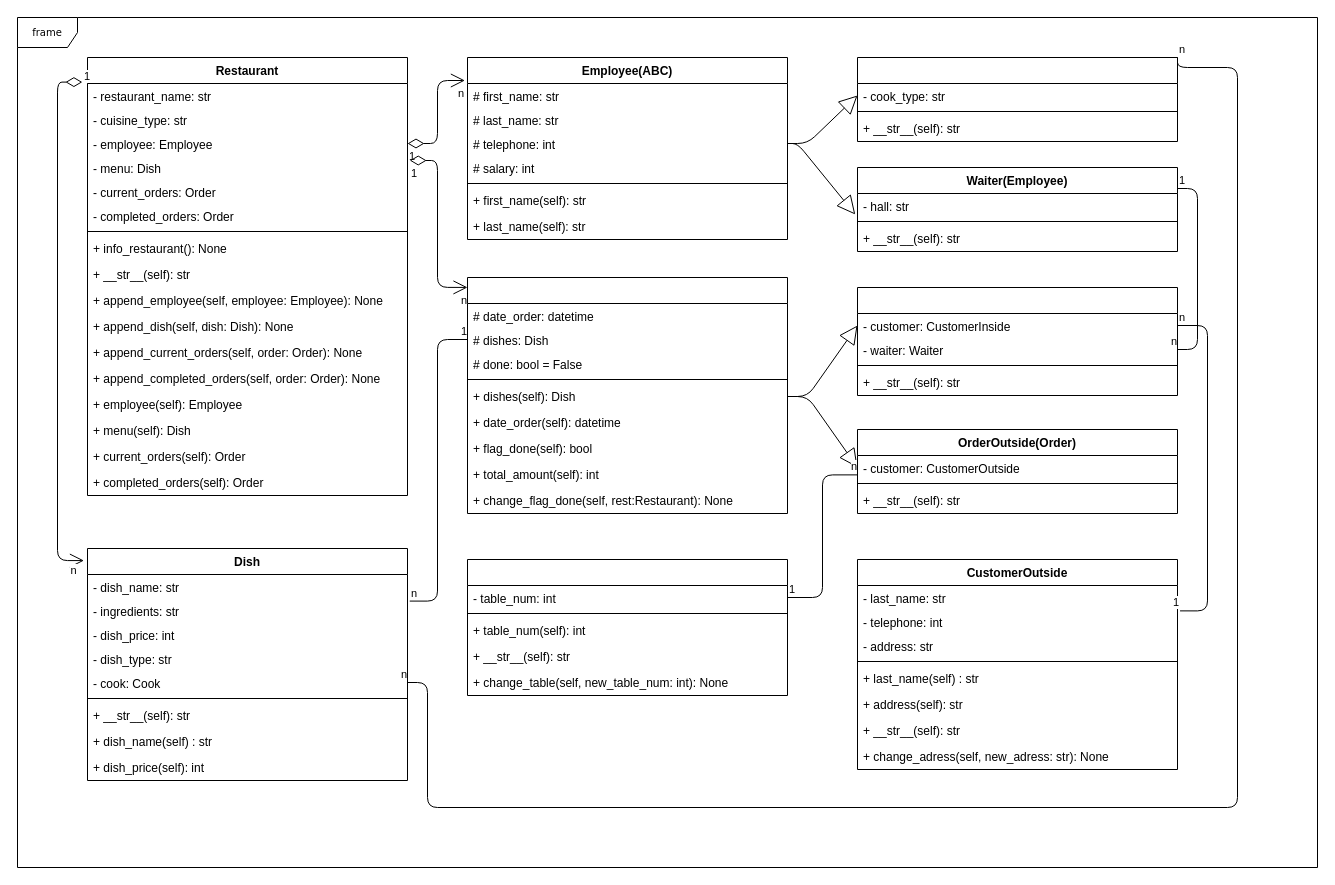
This 1335x885 diagram has some shape labels left out. The box of each missing label's shape, as (x1, y1, x2, y2) in pixels:
Cook(Employee): (856, 56, 1178, 142)
CustomerInside: (466, 558, 788, 696)
Order(ABC): (466, 276, 788, 514)
OrderInside(Order): (856, 286, 1178, 396)
